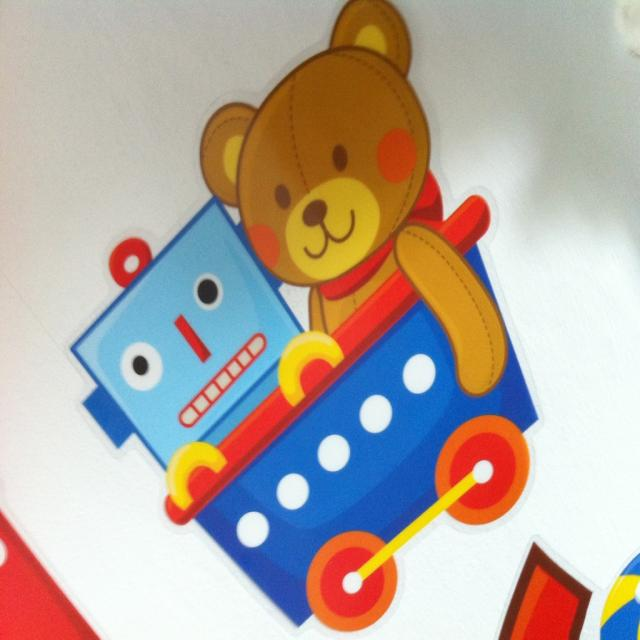Toy: (71, 1, 541, 632)
